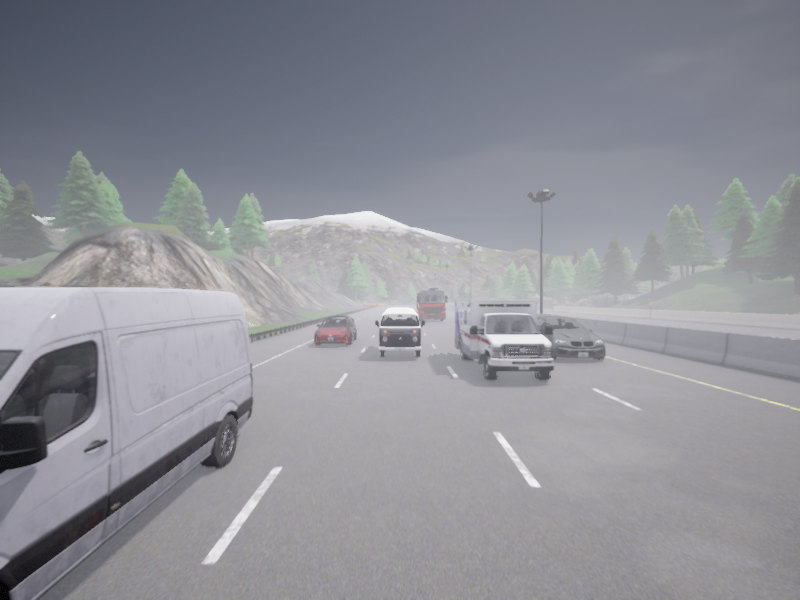vehicle: (0, 287, 252, 599), (454, 299, 553, 379), (537, 316, 605, 359), (375, 307, 424, 356), (314, 316, 356, 345), (416, 287, 447, 321)
